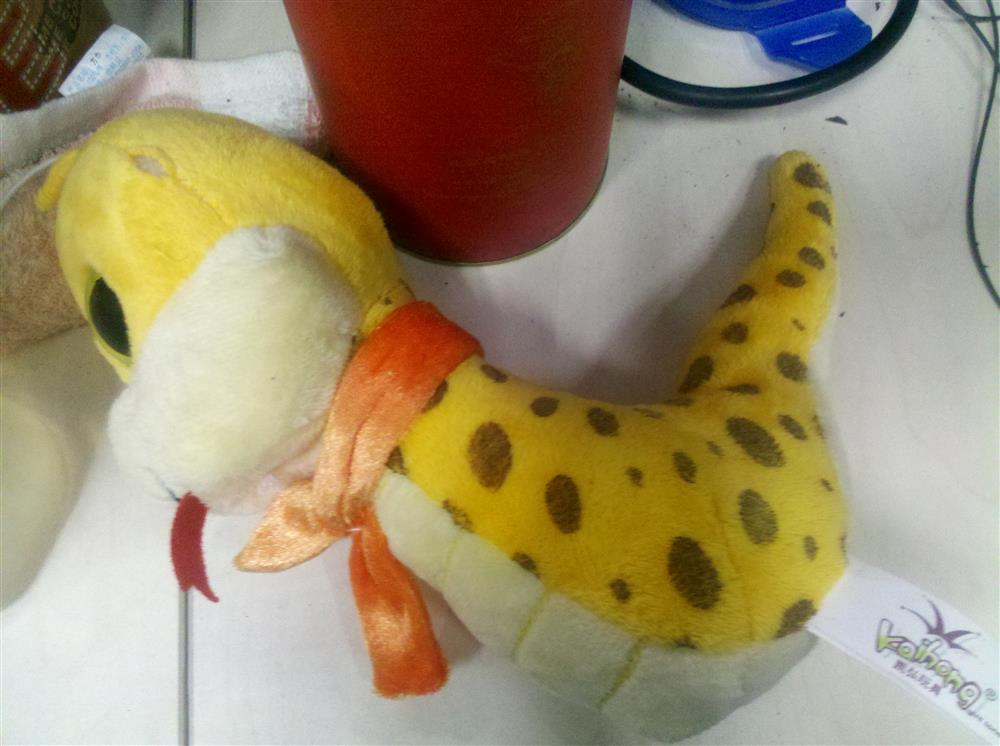toy_snake: (53, 108, 852, 650)
